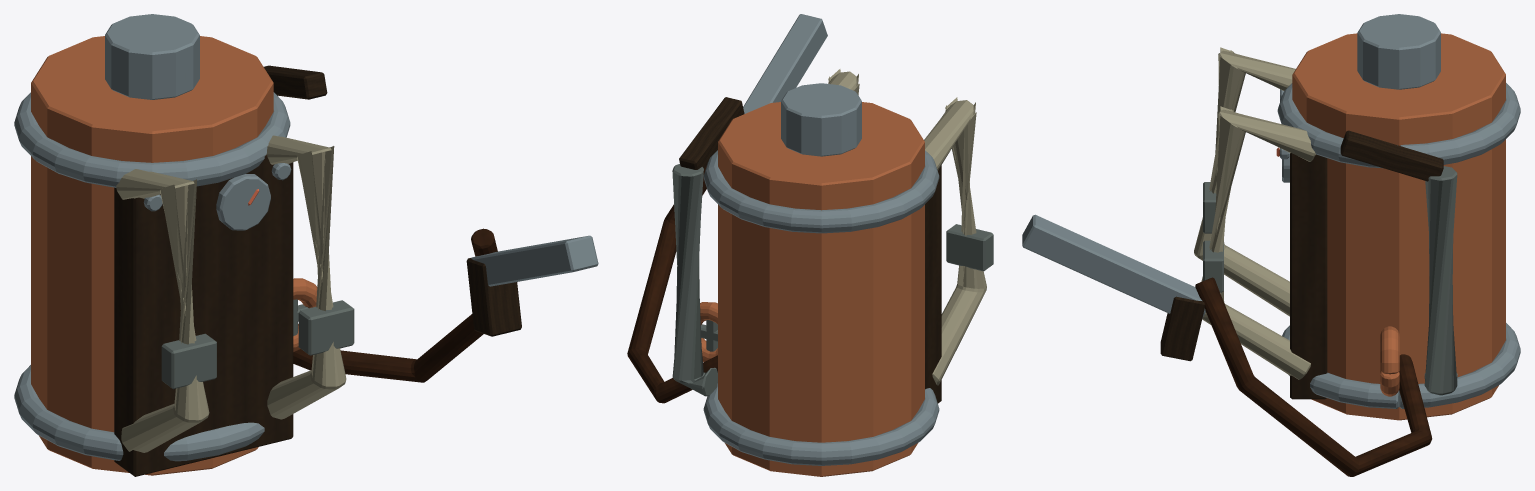
Rendered from WardenSprayer.glb.
3 renders of one model, left to right at view 1: azimuth 30°, elevation 25°; view 2: azimuth 150°, elevation 25°; view 3: azimuth 270°, elevation 25°, orthographic. The views are drawn at different scales.
Visible parts, largest first — view 1: Backpack tank, Backplate, Shoulder strap, Shoulder strap.001, Tank binding.001, Filler cap, Tank binding, Flexible hose, Spray wand, Wand grip, Strap buckle.001, Strap buckle (+3 smaller); view 2: Backpack tank, Tank binding.001, Tank binding, Pump riser, Shoulder strap, Filler cap, Flexible hose, Spray wand, Backplate, Pump lever, Strap buckle, Valve handwheel.001 (+1 smaller); view 3: Backpack tank, Backplate, Flexible hose, Shoulder strap.001, Spray wand, Pump riser, Filler cap, Shoulder strap, Tank binding, Tank binding.001, Pump lever, Wand grip (+3 smaller).
Boxes of the visible parts, x1,y1,x2,y2 form: Backpack tank: (31, 36, 273, 475); Backplate: (114, 154, 293, 476); Shoulder strap: (116, 169, 209, 452); Shoulder strap.001: (266, 135, 346, 419); Tank binding.001: (14, 92, 290, 187); Filler cap: (105, 14, 199, 99); Tank binding: (14, 365, 264, 461); Flexible hose: (293, 228, 497, 382); Spray wand: (467, 235, 598, 286); Wand grip: (466, 258, 521, 336); Strap buckle.001: (298, 300, 354, 355); Strap buckle: (161, 333, 216, 389); Backpack tank: (718, 102, 924, 476); Tank binding.001: (703, 150, 939, 233); Tank binding: (703, 382, 939, 465); Pump riser: (672, 164, 717, 396); Shoulder strap: (924, 97, 986, 385); Filler cap: (781, 83, 861, 156); Flexible hose: (627, 165, 717, 403); Spray wand: (743, 14, 827, 113); Backplate: (925, 165, 941, 403); Pump lever: (679, 97, 744, 169); Strap buckle: (946, 224, 993, 271); Valve handwheel.001: (700, 302, 717, 361); Backpack tank: (1292, 33, 1505, 420); Backplate: (1290, 153, 1327, 399); Flexible hose: (1195, 277, 1432, 476); Shoulder strap.001: (1201, 106, 1315, 379); Spray wand: (1022, 214, 1205, 318); Pump riser: (1424, 166, 1457, 395); Filler cap: (1357, 14, 1440, 89); Shoulder strap: (1194, 47, 1295, 316); Tank binding: (1282, 323, 1520, 408); Tank binding.001: (1277, 83, 1520, 168); Pump lever: (1340, 130, 1443, 181); Wand grip: (1160, 296, 1204, 361).
Bounding box in the file's own units: 0.8535 × 0.82 × 1.07.
Materials: 7 (2 with a texture image).
